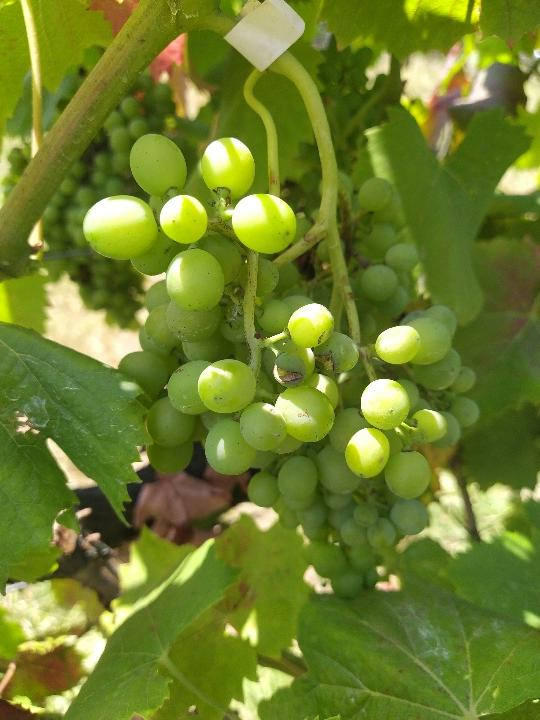grape: (82, 132, 481, 600)
